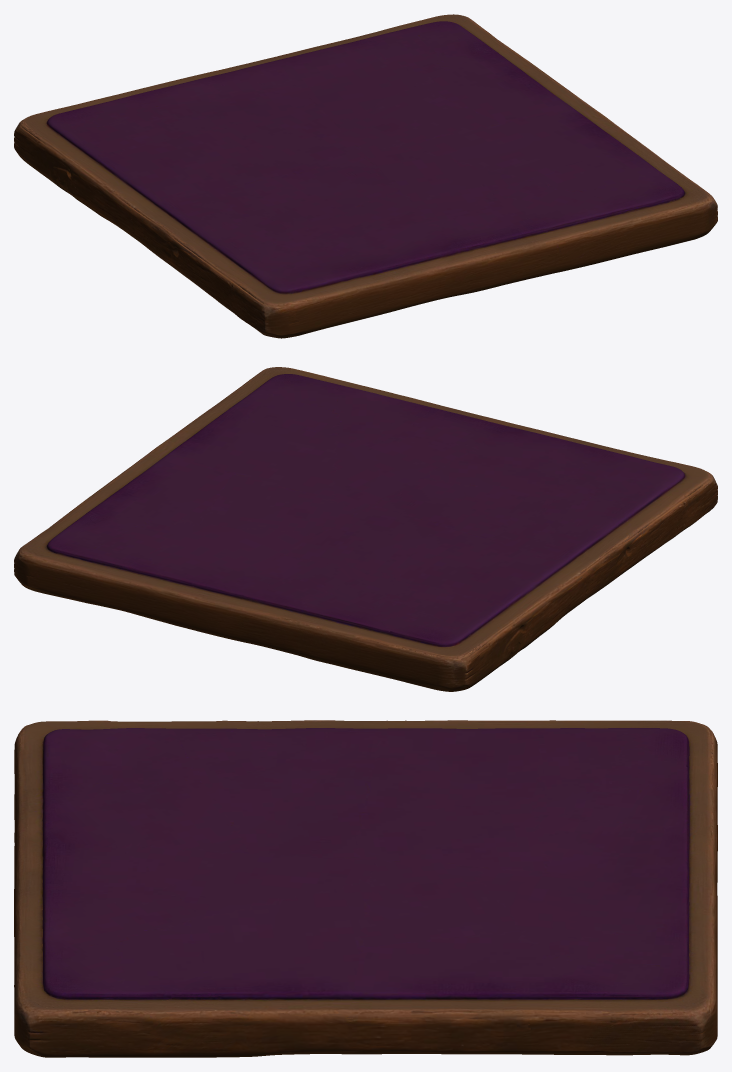
Rendered from board.glb.
The picture shows the model from 3 angles, top to bottom: view 1: azimuth 30°, elevation 25°; view 2: azimuth 150°, elevation 25°; view 3: azimuth 270°, elevation 25°; orthographic projection. The views are drawn at different scales.
Parts seen in each view (by area): view 1: tripo_node_e1a95da5-738d-4d15-ab91-a1156c10412f; view 2: tripo_node_e1a95da5-738d-4d15-ab91-a1156c10412f; view 3: tripo_node_e1a95da5-738d-4d15-ab91-a1156c10412f.
Part boxes in pixels (x1,y1,x2,y2): tripo_node_e1a95da5-738d-4d15-ab91-a1156c10412f: [14, 14, 717, 338]; tripo_node_e1a95da5-738d-4d15-ab91-a1156c10412f: [14, 367, 717, 691]; tripo_node_e1a95da5-738d-4d15-ab91-a1156c10412f: [14, 720, 717, 1057].
Size of the model in its own units: 0.9773 by 0.0829 by 0.9792.
1 material, 1 textured.
